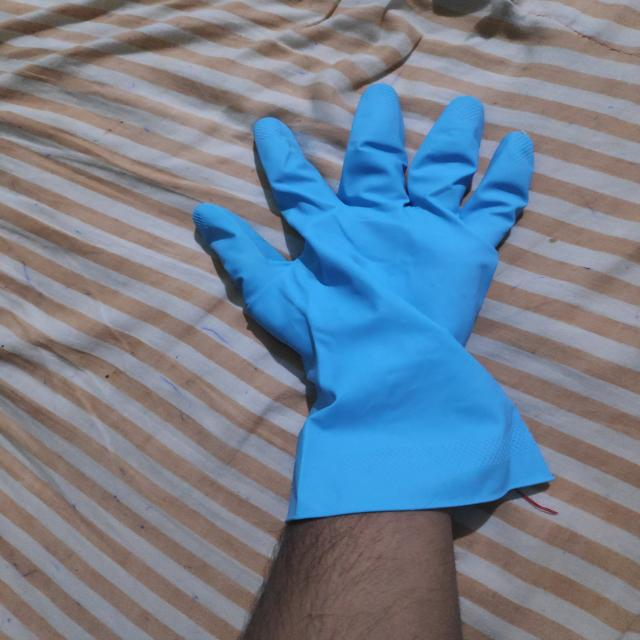glove: (190, 73, 552, 536)
